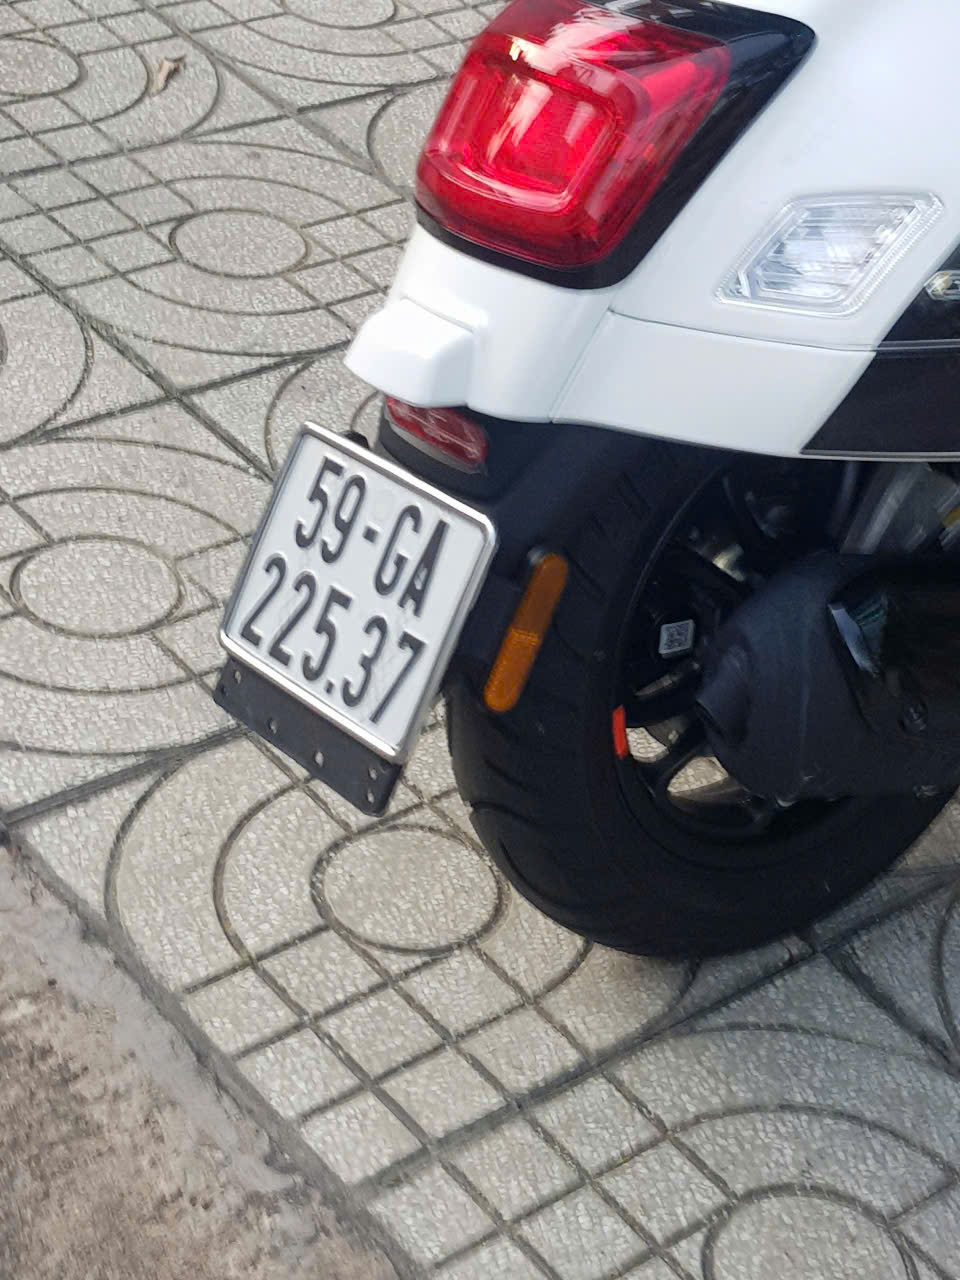bien_so: (221, 430, 491, 761)
